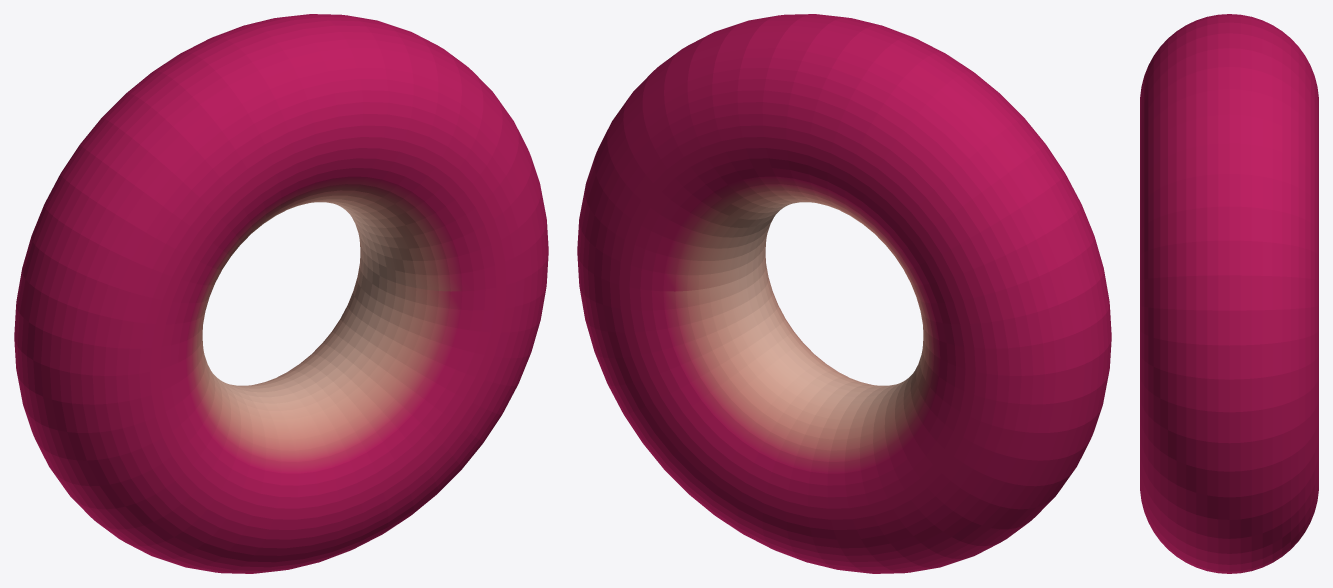
The picture shows the model from 3 angles, left to right: view 1: azimuth 30°, elevation 25°; view 2: azimuth 150°, elevation 25°; view 3: azimuth 270°, elevation 25°; orthographic projection. The views are drawn at different scales.
Visible parts, largest first — view 1: world; view 2: world; view 3: world.
Part boxes in pixels (x1,y1,x2,y2): world: (14, 14, 548, 573); world: (577, 14, 1111, 573); world: (1140, 14, 1318, 573).
Size of the model in its own units: 30.4 by 30.34 by 9.71.
